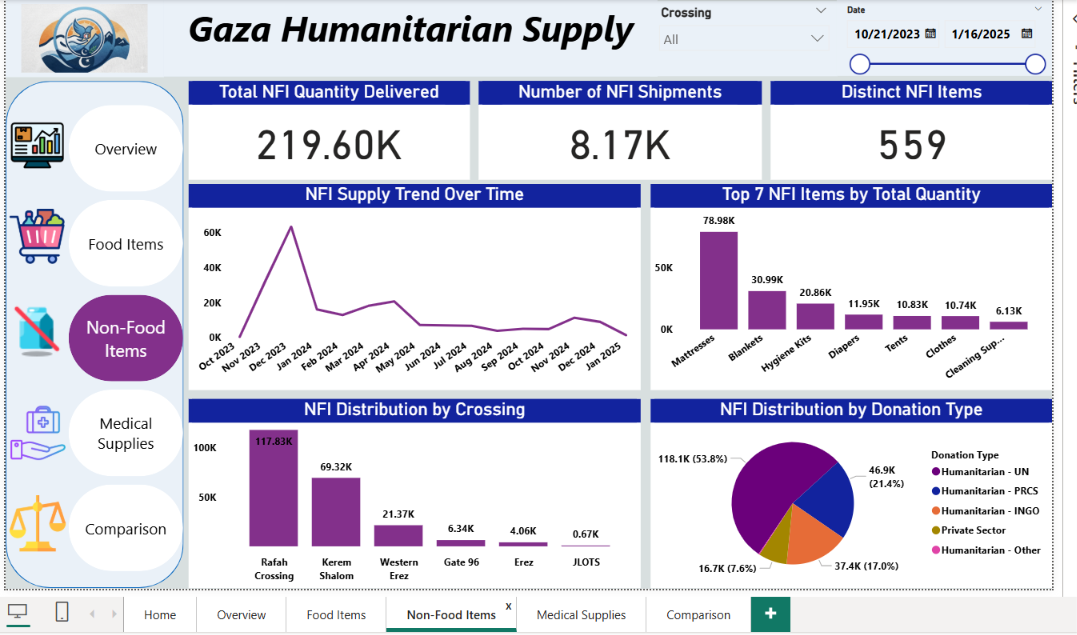

What the dashboard file says about the page in this screenshot:
{"tool":"powerbi","page":{"name":"Non-Food Items","canvas":[1280,720],"ordinal":3},"visuals":[{"type":"shape","box":[0,99,217.7,620],"z":500},{"type":"shape","box":[0,1.3,192.8,92.5],"z":1000},{"type":"textbox","box":[192.8,0,604.1,93.8],"z":2000},{"type":"image","box":[0,0,193.2,94.2],"z":3000},{"type":"cardVisual","title":"Total NFI Quantity Delivered","fields":{"Data":["gold nfi_analysis.NFI Total Qty"]},"box":[223.8,99,343.6,121.1],"z":4000},{"type":"cardVisual","title":"Number of NFI Shipments","fields":{"Data":["gold nfi_analysis.NFI Shipments"]},"box":[578.4,99,346.1,121.1],"z":5000},{"type":"lineChart","title":"NFI Supply Trend Over Time","fields":{"Y":["gold nfi_analysis.NFI Total Qty"],"Category":["DateTable.YearMonth"]},"box":[223.7,224.9,552.7,251.9],"z":6000},{"type":"columnChart","title":"Top 7 NFI Items by Total Quantity","fields":{"Category":["gold nfi_analysis.DescriptionOfCargo"],"Y":["gold nfi_analysis.NFI Total Qty"]},"box":[789.2,224.9,491,251.9],"z":7000},{"type":"columnChart","title":"NFI Distribution by Crossing","fields":{"Category":["gold nfi_analysis.Crossing"],"Y":["gold nfi_analysis.NFI Total Qty"]},"box":[223.7,488.5,552.7,231.4],"z":8000},{"type":"pieChart","title":"NFI Distribution by Donation Type","fields":{"Category":["gold nfi_analysis.DonationType"],"Y":["gold nfi_analysis.NFI Total Qty"]},"box":[789.2,488.5,491,231.4],"z":9000},{"type":"cardVisual","title":"Distinct NFI Items","fields":{"Data":["gold nfi_analysis.NFI Items Count"]},"box":[935.2,98.6,345.1,121.1],"z":10000},{"type":"group","id":"g1","title":"Group 1","box":[0,128.3,218.1,574.4],"z":11000},{"type":"slicer","fields":{"Values":["gold nfi_analysis.Crossing"]},"box":[789.3,1.3,228,92],"z":12000},{"type":"slicer","title":"Date","fields":{"Values":["DateTable.Date"]},"box":[1016.2,0,264.1,92.9],"z":13000},{"type":"pageNavigator","box":[77.4,128.3,140.7,574.4],"z":13000,"group":"g1"},{"type":"image","box":[0,140.4,77.4,74.3],"z":14000,"group":"g1"},{"type":"image","box":[0,243.5,77.4,90.9],"z":15000,"group":"g1"},{"type":"image","box":[0,358.7,77.4,87.9],"z":16000,"group":"g1"},{"type":"image","box":[1.4,483,77.4,92.5],"z":17000,"group":"g1"},{"type":"image","box":[0,596.6,78.8,86.4],"z":18000,"group":"g1"}]}

Visuals, with their boxes on the page's 1280x720 design canvas (x1, y1, x2, y2). These are canvas units, not pixel positions in the 1077x635 screenshot, which may show the page scaled, cropped or inside an application window:
shape: locate(0, 99, 218, 719)
shape: locate(0, 1, 193, 94)
textbox: locate(193, 0, 797, 94)
image: locate(0, 0, 193, 94)
"Total NFI Quantity Delivered" cardVisual: locate(224, 99, 567, 220)
"Number of NFI Shipments" cardVisual: locate(578, 99, 924, 220)
"NFI Supply Trend Over Time" lineChart: locate(224, 225, 776, 477)
"Top 7 NFI Items by Total Quantity" columnChart: locate(789, 225, 1280, 477)
"NFI Distribution by Crossing" columnChart: locate(224, 488, 776, 720)
"NFI Distribution by Donation Type" pieChart: locate(789, 488, 1280, 720)
"Distinct NFI Items" cardVisual: locate(935, 99, 1280, 220)
"Group 1" group: locate(0, 128, 218, 703)
slicer - gold nfi_analysis.Crossing: locate(789, 1, 1017, 93)
"Date" slicer: locate(1016, 0, 1280, 93)
pageNavigator: locate(77, 128, 218, 703)
image: locate(0, 140, 77, 215)
image: locate(0, 244, 77, 334)
image: locate(0, 359, 77, 447)
image: locate(1, 483, 79, 576)
image: locate(0, 597, 79, 683)
